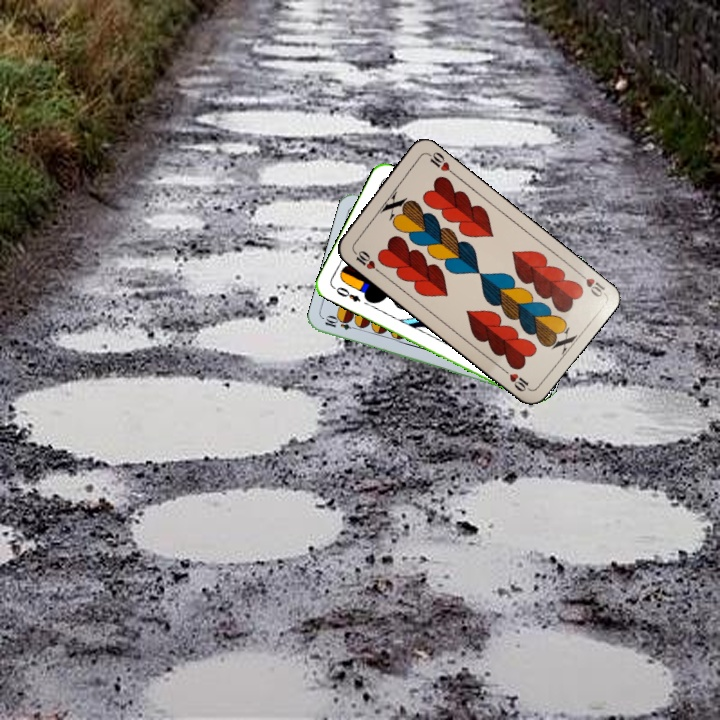E10: (321, 313, 361, 333)
EO: (329, 283, 363, 304)
H10: (573, 267, 608, 300), (349, 245, 383, 275)
